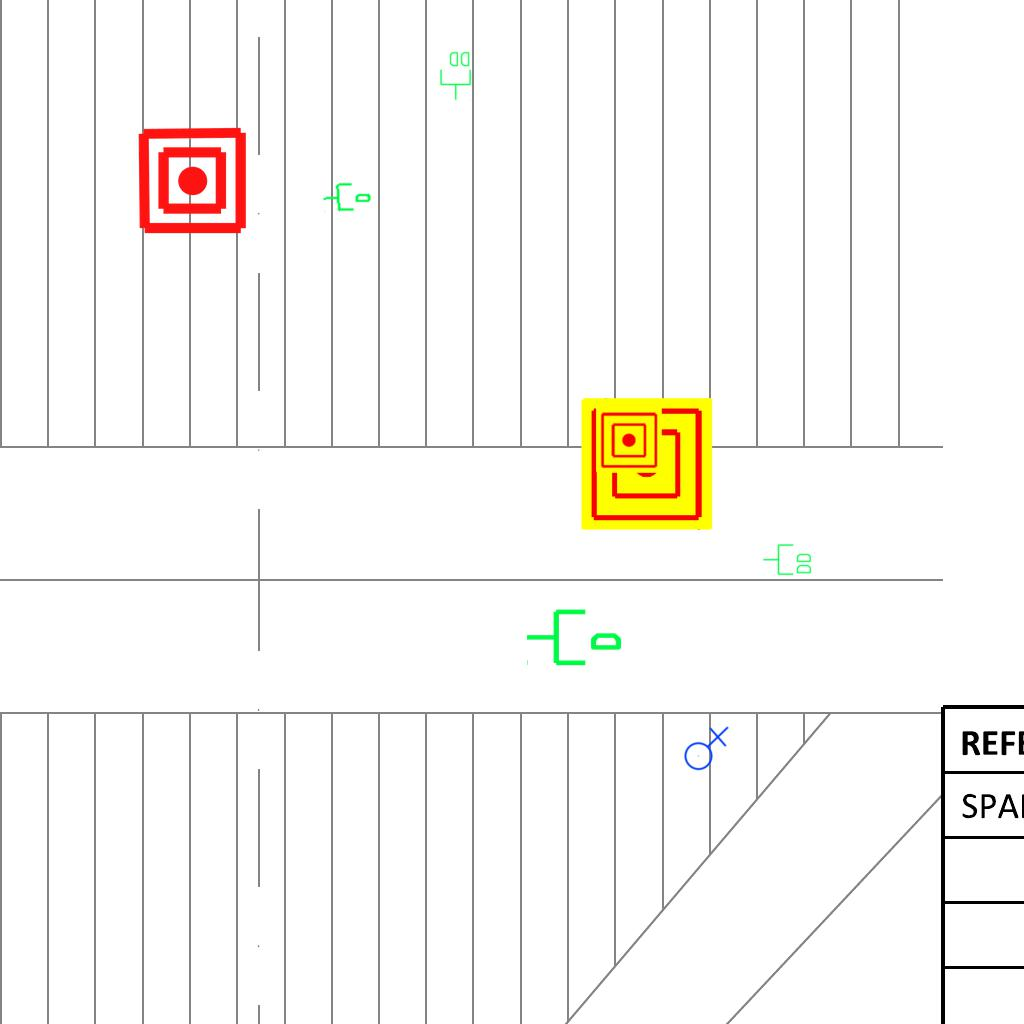Datenanschluss_einfach: (524, 601, 624, 670), (320, 177, 374, 215)
Datenanschluss_zweifach: (762, 543, 813, 577), (439, 50, 473, 101)
Elektroanschluss_allgemein_230V_Geraeteanschlussdose_230V: (680, 724, 729, 771)
NAM-Nichtautomatischer_Melder: (581, 398, 713, 530), (136, 124, 249, 237), (596, 407, 662, 473)
